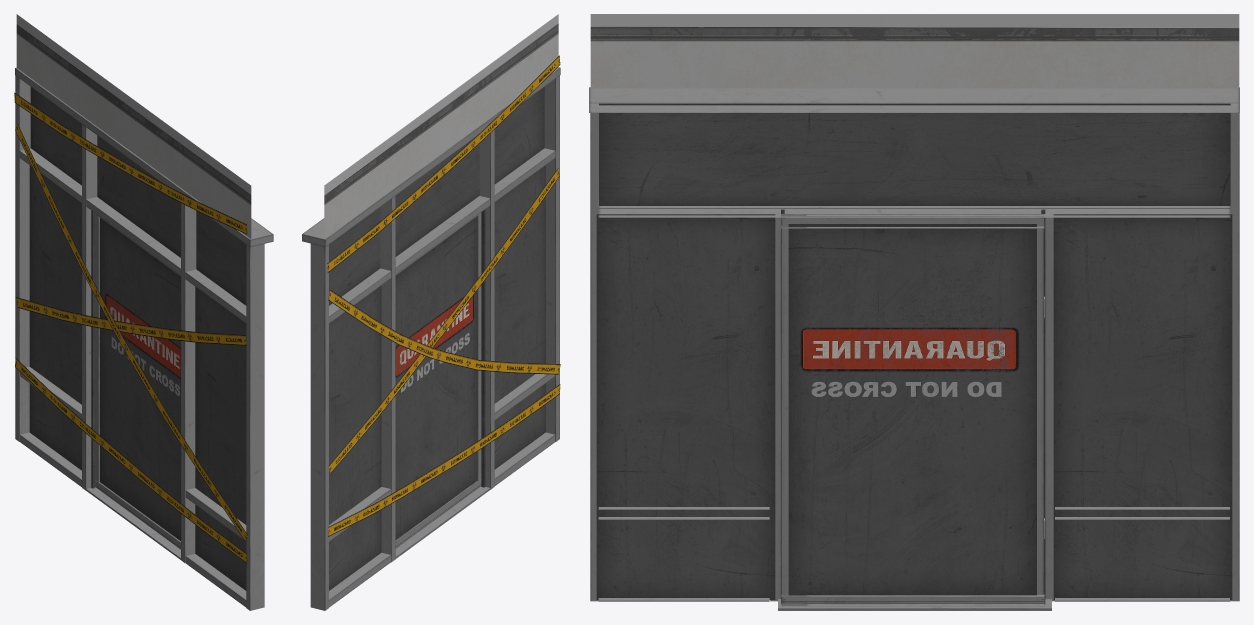
Rendered from HH_Softwall_Isolation_Barrier_No_Passage.fbx.
3 renders of one model, left to right at view 1: azimuth 30°, elevation 25°; view 2: azimuth 150°, elevation 25°; view 3: azimuth 270°, elevation 25°, orthographic. The views are drawn at different scales.
Parts seen in each view (by area): view 1: HH_Softwall_Isolation_Barrier_No_Passage; view 2: HH_Softwall_Isolation_Barrier_No_Passage; view 3: HH_Softwall_Isolation_Barrier_No_Passage.
Part boxes in pixels (left/top/right/bottom): HH_Softwall_Isolation_Barrier_No_Passage: left=14, top=14, right=273, bottom=610; HH_Softwall_Isolation_Barrier_No_Passage: left=302, top=14, right=560, bottom=610; HH_Softwall_Isolation_Barrier_No_Passage: left=589, top=14, right=1239, bottom=610.
Bounding box in the file's own units: 24.27 × 400 × 401.
